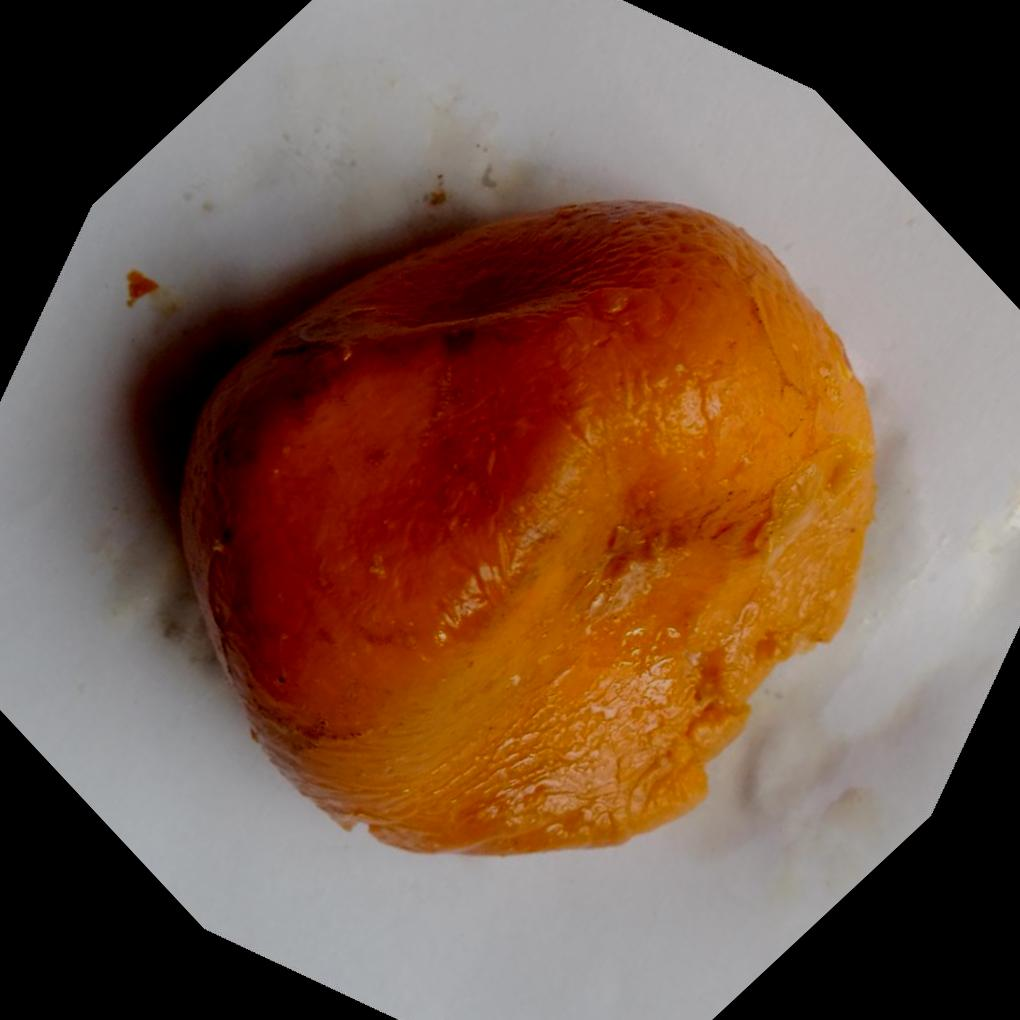FreshOrange: (172, 193, 875, 857)
